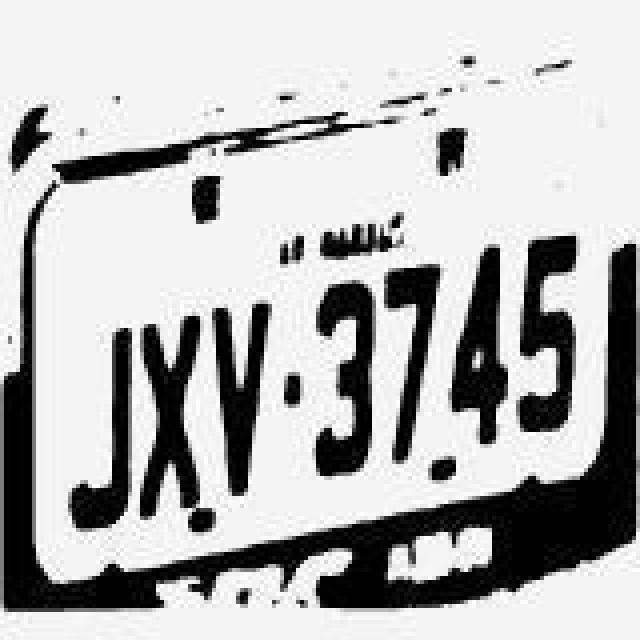3: (300, 268, 380, 500)
4: (448, 226, 512, 462)
5: (514, 222, 590, 466)
7: (378, 260, 446, 476)
J: (60, 294, 132, 522)
V: (208, 290, 272, 502)
X: (136, 302, 200, 514)
